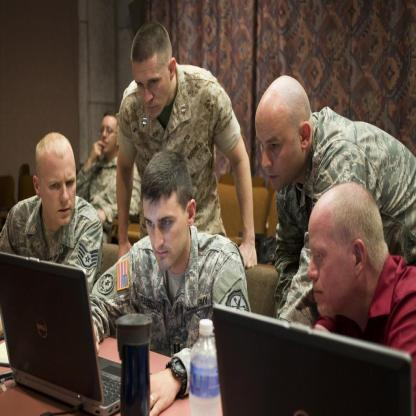board: (203, 301, 410, 414), (0, 251, 122, 415), (191, 317, 222, 416)
